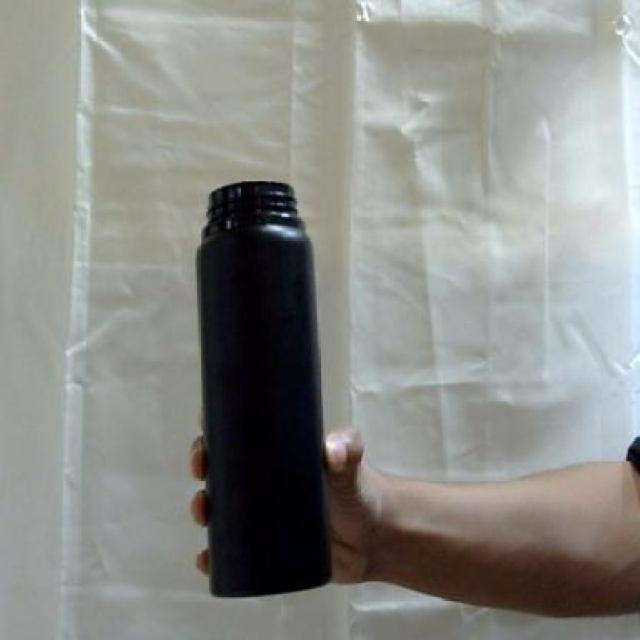Metal: (194, 227, 334, 600)
